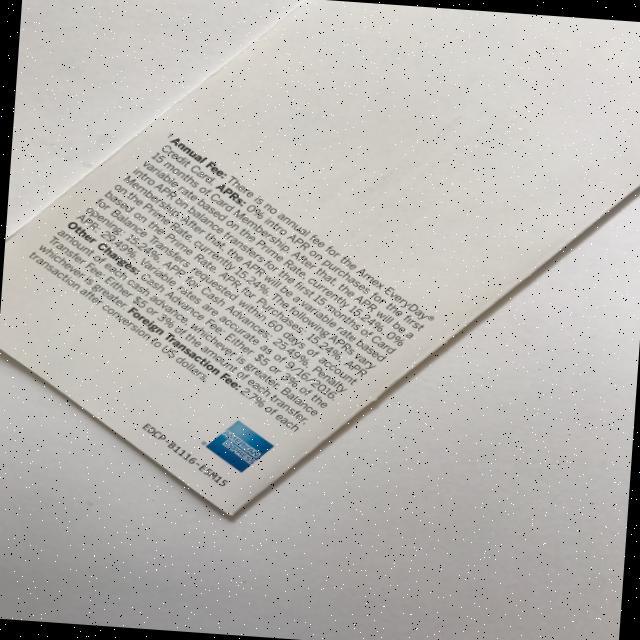paper: (0, 0, 640, 544)
